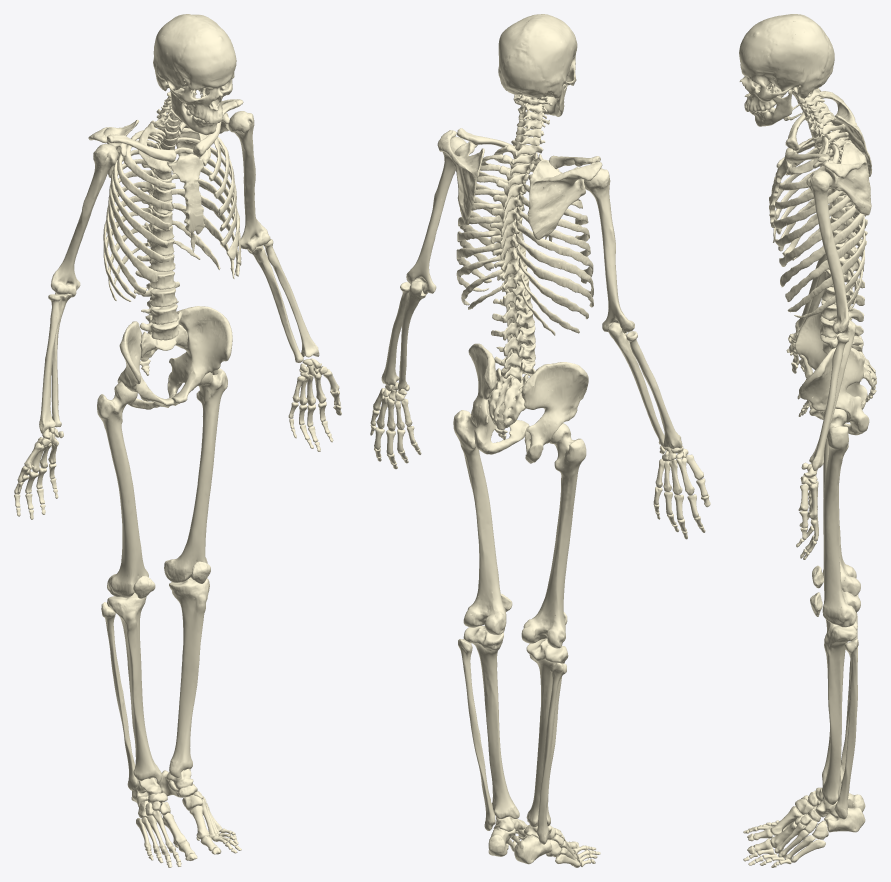
Rendered from human_skeleton.glb.
3 views of the same model, side by side, from view 1: azimuth 30°, elevation 25°; view 2: azimuth 150°, elevation 25°; view 3: azimuth 270°, elevation 25° (orthographic).
Visible parts, largest first — view 1: Cranium, r_femur, l_femur, l_oscoxa, l_tibia, r_tibia, r_humerus, l_humerus, r_oscoxa, Sternum, r_fibula, r_radius (+14 smaller); view 2: Cranium, r_femur, l_femur, r_oscoxa, l_tibia, r_scapula, r_tibia, l_oscoxa, r_humerus, l_humerus, l_scapula, Sacrum (+10 smaller); view 3: Cranium, l_femur, l_tibia, l_oscoxa, l_humerus, l_scapula, l_fibula, r_oscoxa, l_radius, r_scapula, r_femur, l_rib8 (+23 smaller).
Boxes of the visible parts, x1,y1,x2,y2 form: Cranium: (153,14,236,123); r_femur: (97,382,148,597); l_femur: (164,368,227,582); l_oscoxa: (167,306,232,405); l_tibia: (169,577,209,778); r_tibia: (107,592,161,782); r_humerus: (51,144,118,297); l_humerus: (228,111,270,252); r_oscoxa: (117,321,174,409); Sternum: (168,153,205,234); r_fibula: (101,602,138,790); r_radius: (39,294,60,433); Cranium: (498,14,577,99); r_femur: (521,423,586,648); l_femur: (453,410,506,634); r_oscoxa: (521,362,588,463); l_tibia: (463,625,519,818); r_scapula: (527,159,602,239); r_tibia: (526,638,568,827); l_oscoxa: (468,343,529,454); r_humerus: (584,168,634,333); l_humerus: (406,136,466,294); l_scapula: (437,130,484,225); Sacrum: (488,368,528,429); Cranium: (739,14,834,112); l_femur: (822,408,860,627); l_tibia: (822,621,857,804); l_oscoxa: (799,347,869,435); l_humerus: (806,170,849,334); l_scapula: (813,141,871,215); l_fibula: (834,638,858,819); r_oscoxa: (795,313,867,409); l_radius: (809,335,849,470); r_scapula: (819,91,871,176); r_femur: (822,439,860,596); l_rib8: (785,206,865,302).
Size of the model in its own units: 0.7156 by 1.72 by 0.2569.
